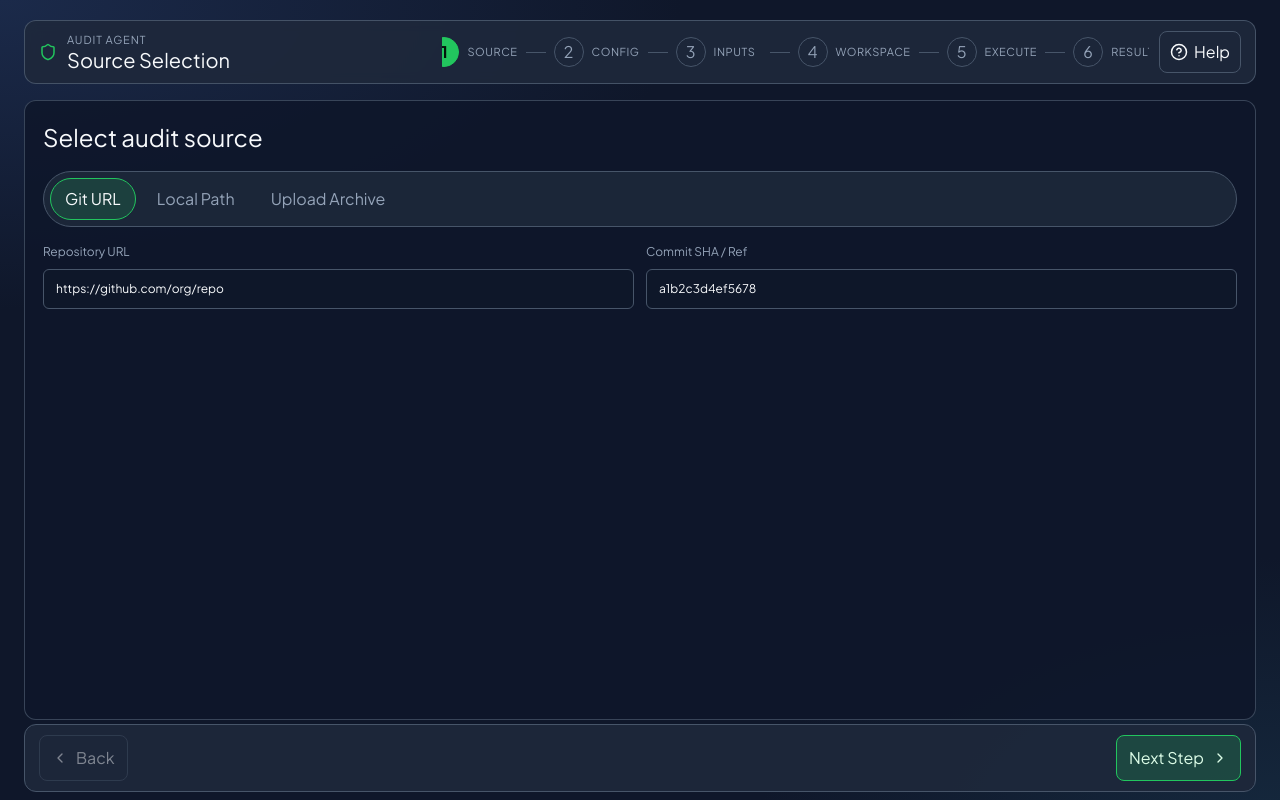
Test: App layout shell › updates ambiguous crate decision from workspace actions
The width and height of the screenshot is (1280, 800).
Click the button named "step 4".
click(813, 52)  # box [798,37,828,67]
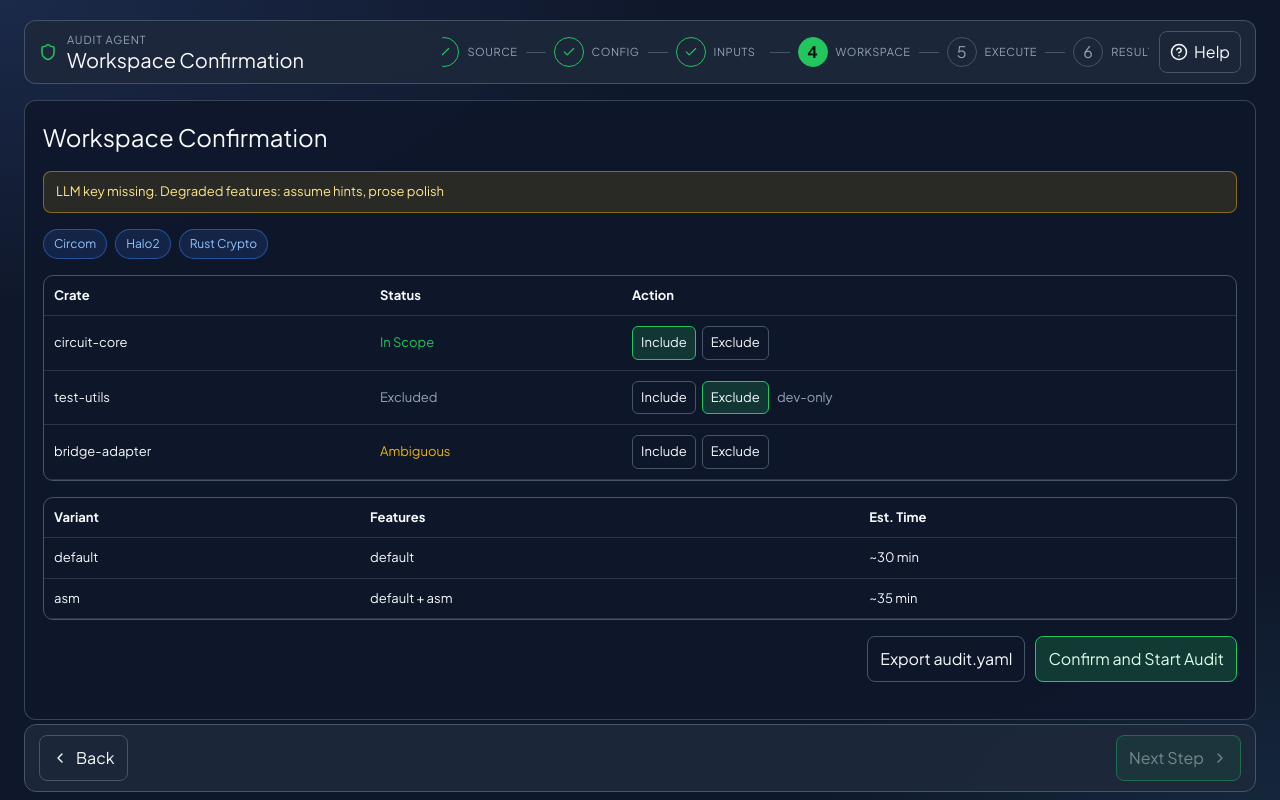
Check: the text "LLM key missing" is shown, box [56,183,444,199]
Check: the text "bridge-adapter" is shown, box [54,443,151,459]
Click the button "Include" in the row of "bridge-adapter".
click(664, 452)  # box [632,435,696,468]
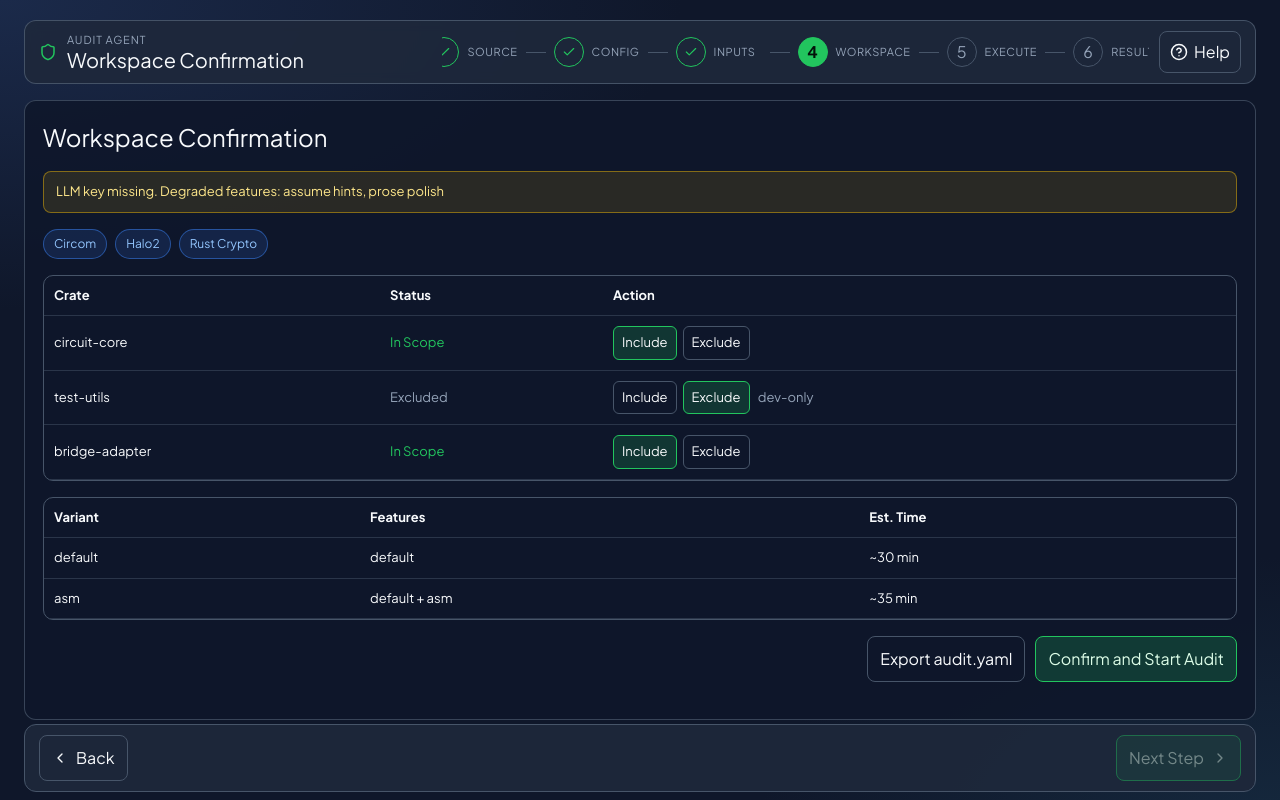
Check: the text "In Scope" in the row of "bridge-adapter" is shown, box [390,443,444,459]
